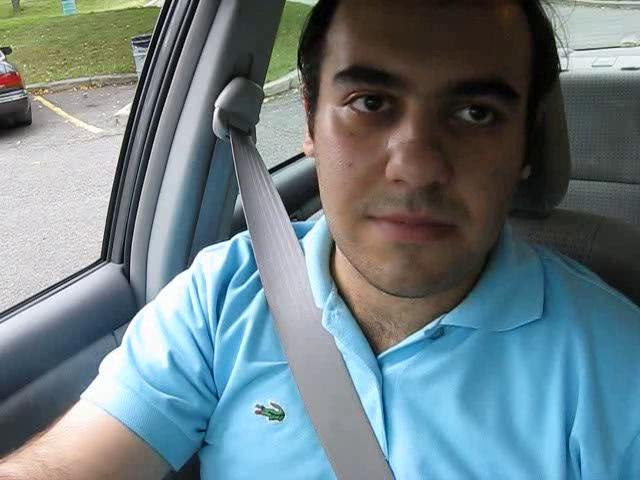no_yawn: (338, 192, 479, 260)
open_eyeL: (325, 74, 420, 136)
open_eyeR: (428, 79, 530, 146)
